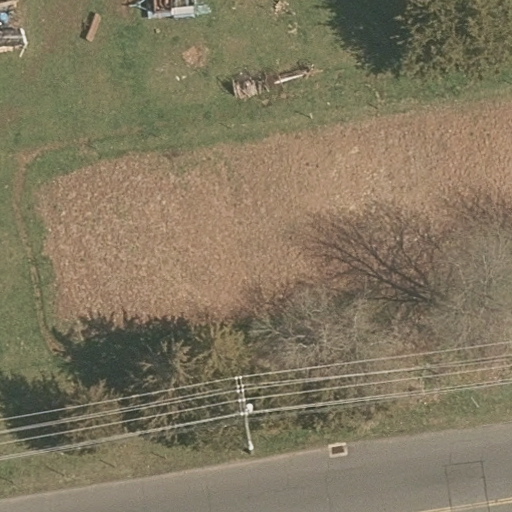DT: (223, 371, 266, 458)
